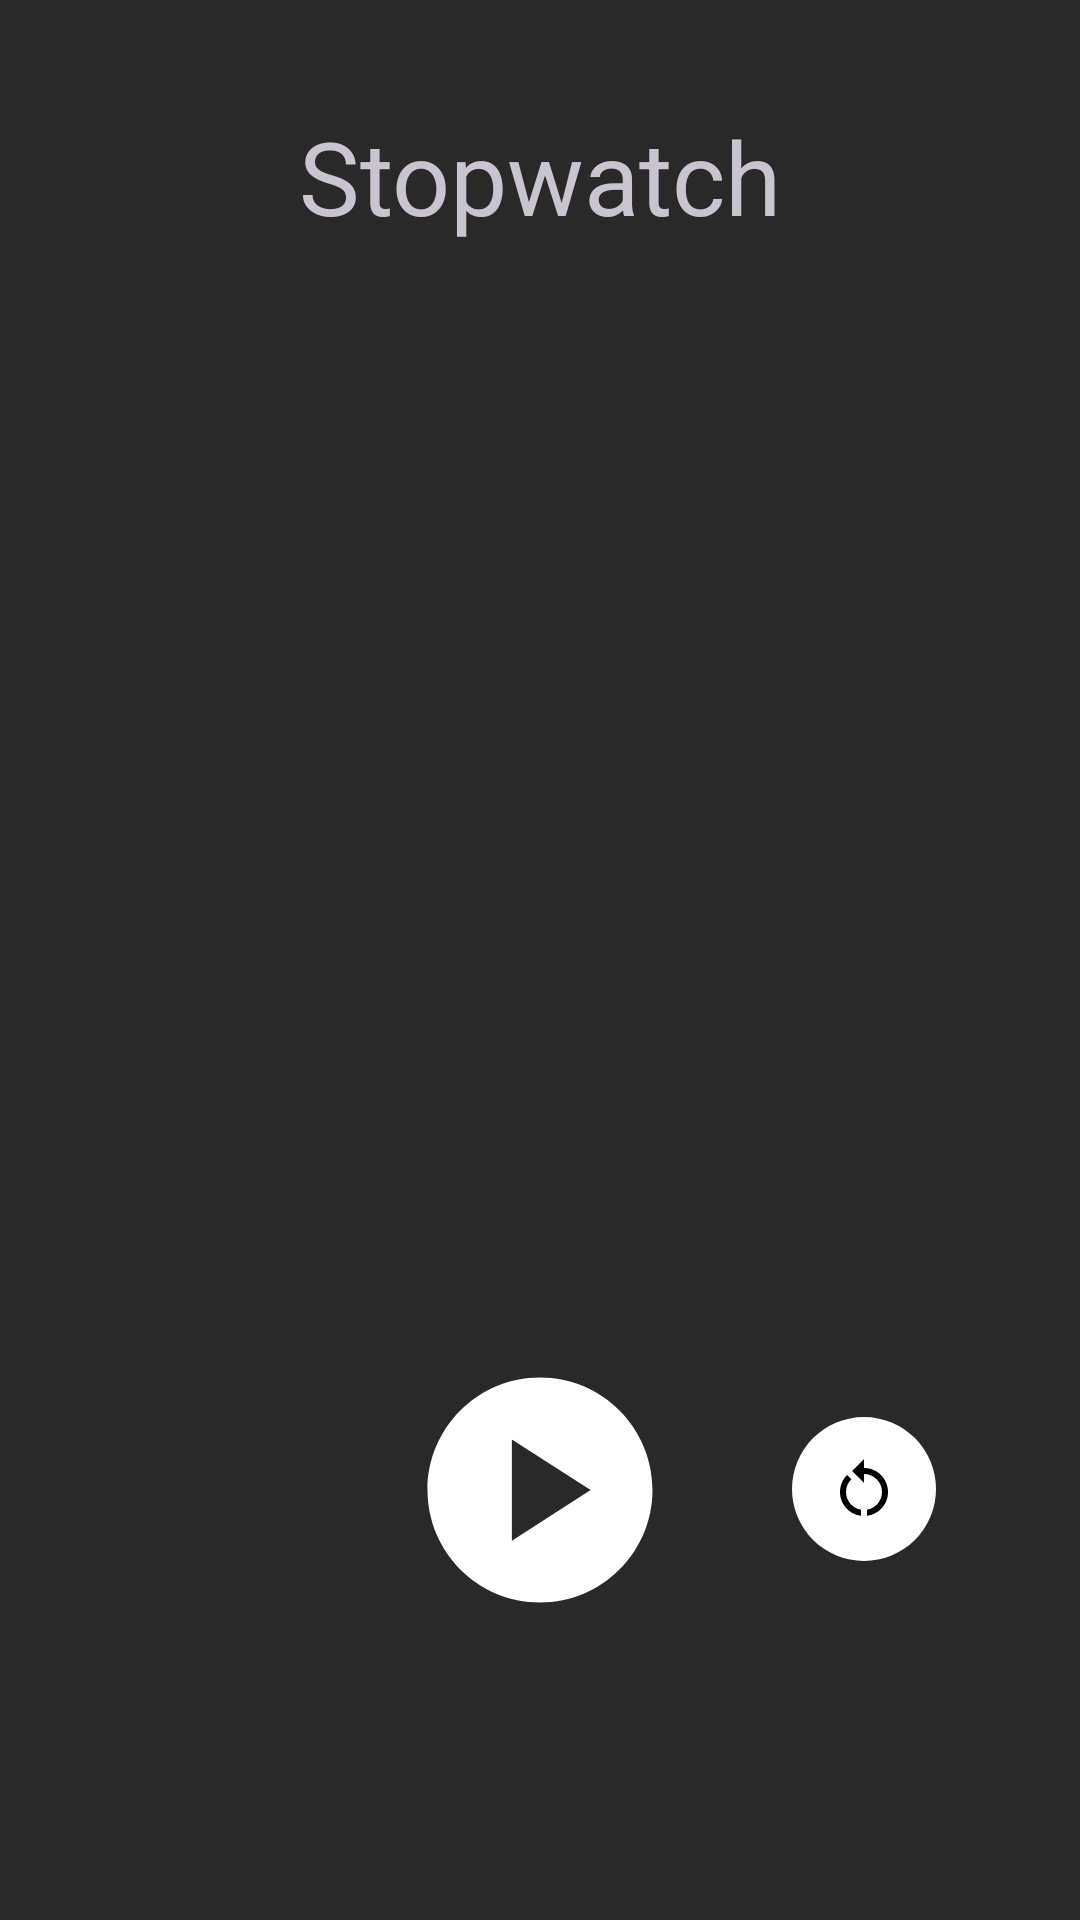

Point at icon controls on the screen. Image size 1080 x 1920, points as [x,y].
play circle: [540,1490]
restart: [864,1489]
